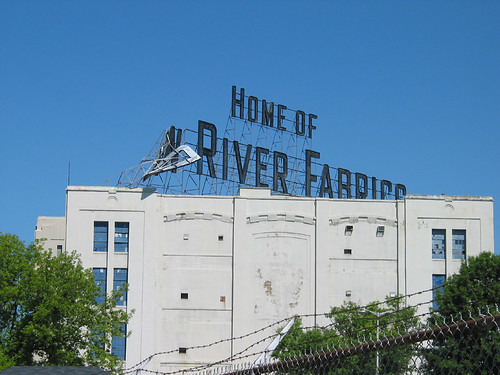building: (33, 191, 496, 375)
sign: (147, 83, 408, 203)
sky: (1, 1, 496, 191)
tree: (1, 230, 127, 375)
